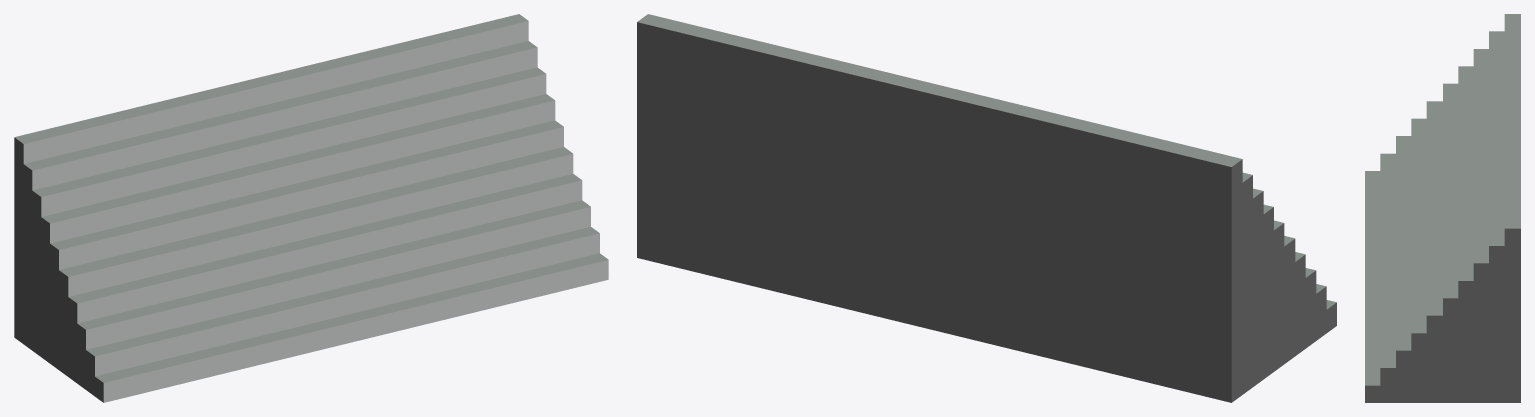
The model's file is field_12.fbx.
3 views of the same model, side by side, from view 1: azimuth 30°, elevation 25°; view 2: azimuth 150°, elevation 25°; view 3: azimuth 270°, elevation 25° (orthographic). The views are drawn at different scales.
Parts seen in each view (by area): view 1: Field_stairs_03; view 2: Field_stairs_03; view 3: Field_stairs_03.
Part boxes in pixels (left/top/right/bottom): Field_stairs_03: left=14, top=14, right=608, bottom=402; Field_stairs_03: left=637, top=14, right=1336, bottom=402; Field_stairs_03: left=1365, top=14, right=1520, bottom=402.
Bounding box in the file's own units: 1.85 × 0.7007 × 0.5673.
Materials: 1 (1 with a texture image).
